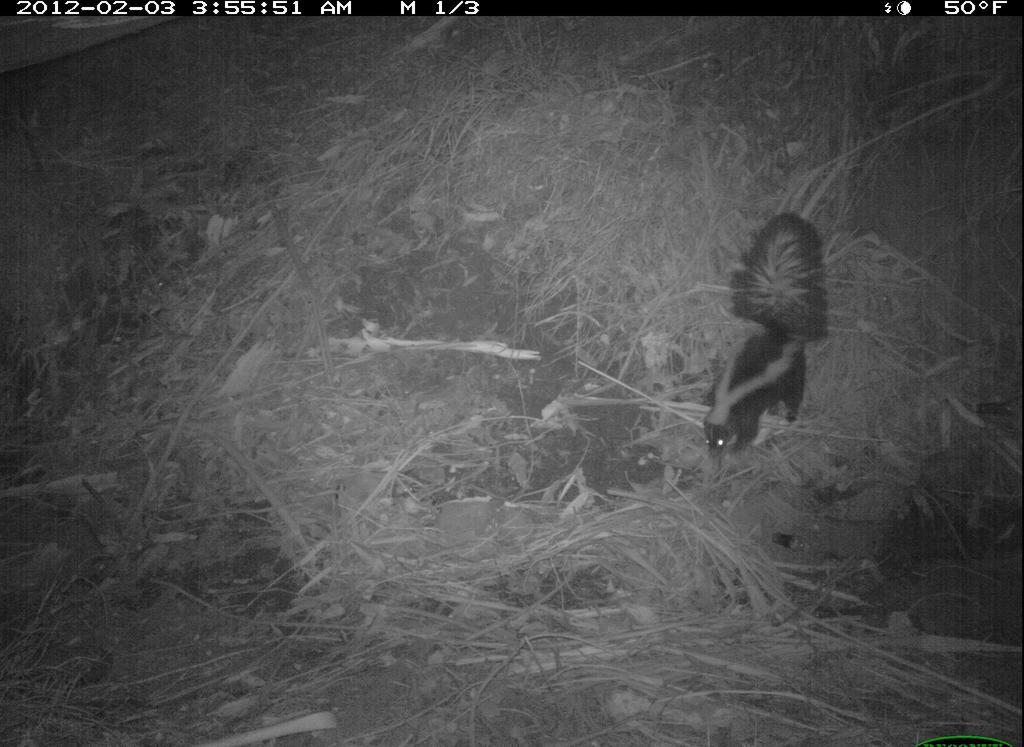skunk: (706, 217, 833, 459)
